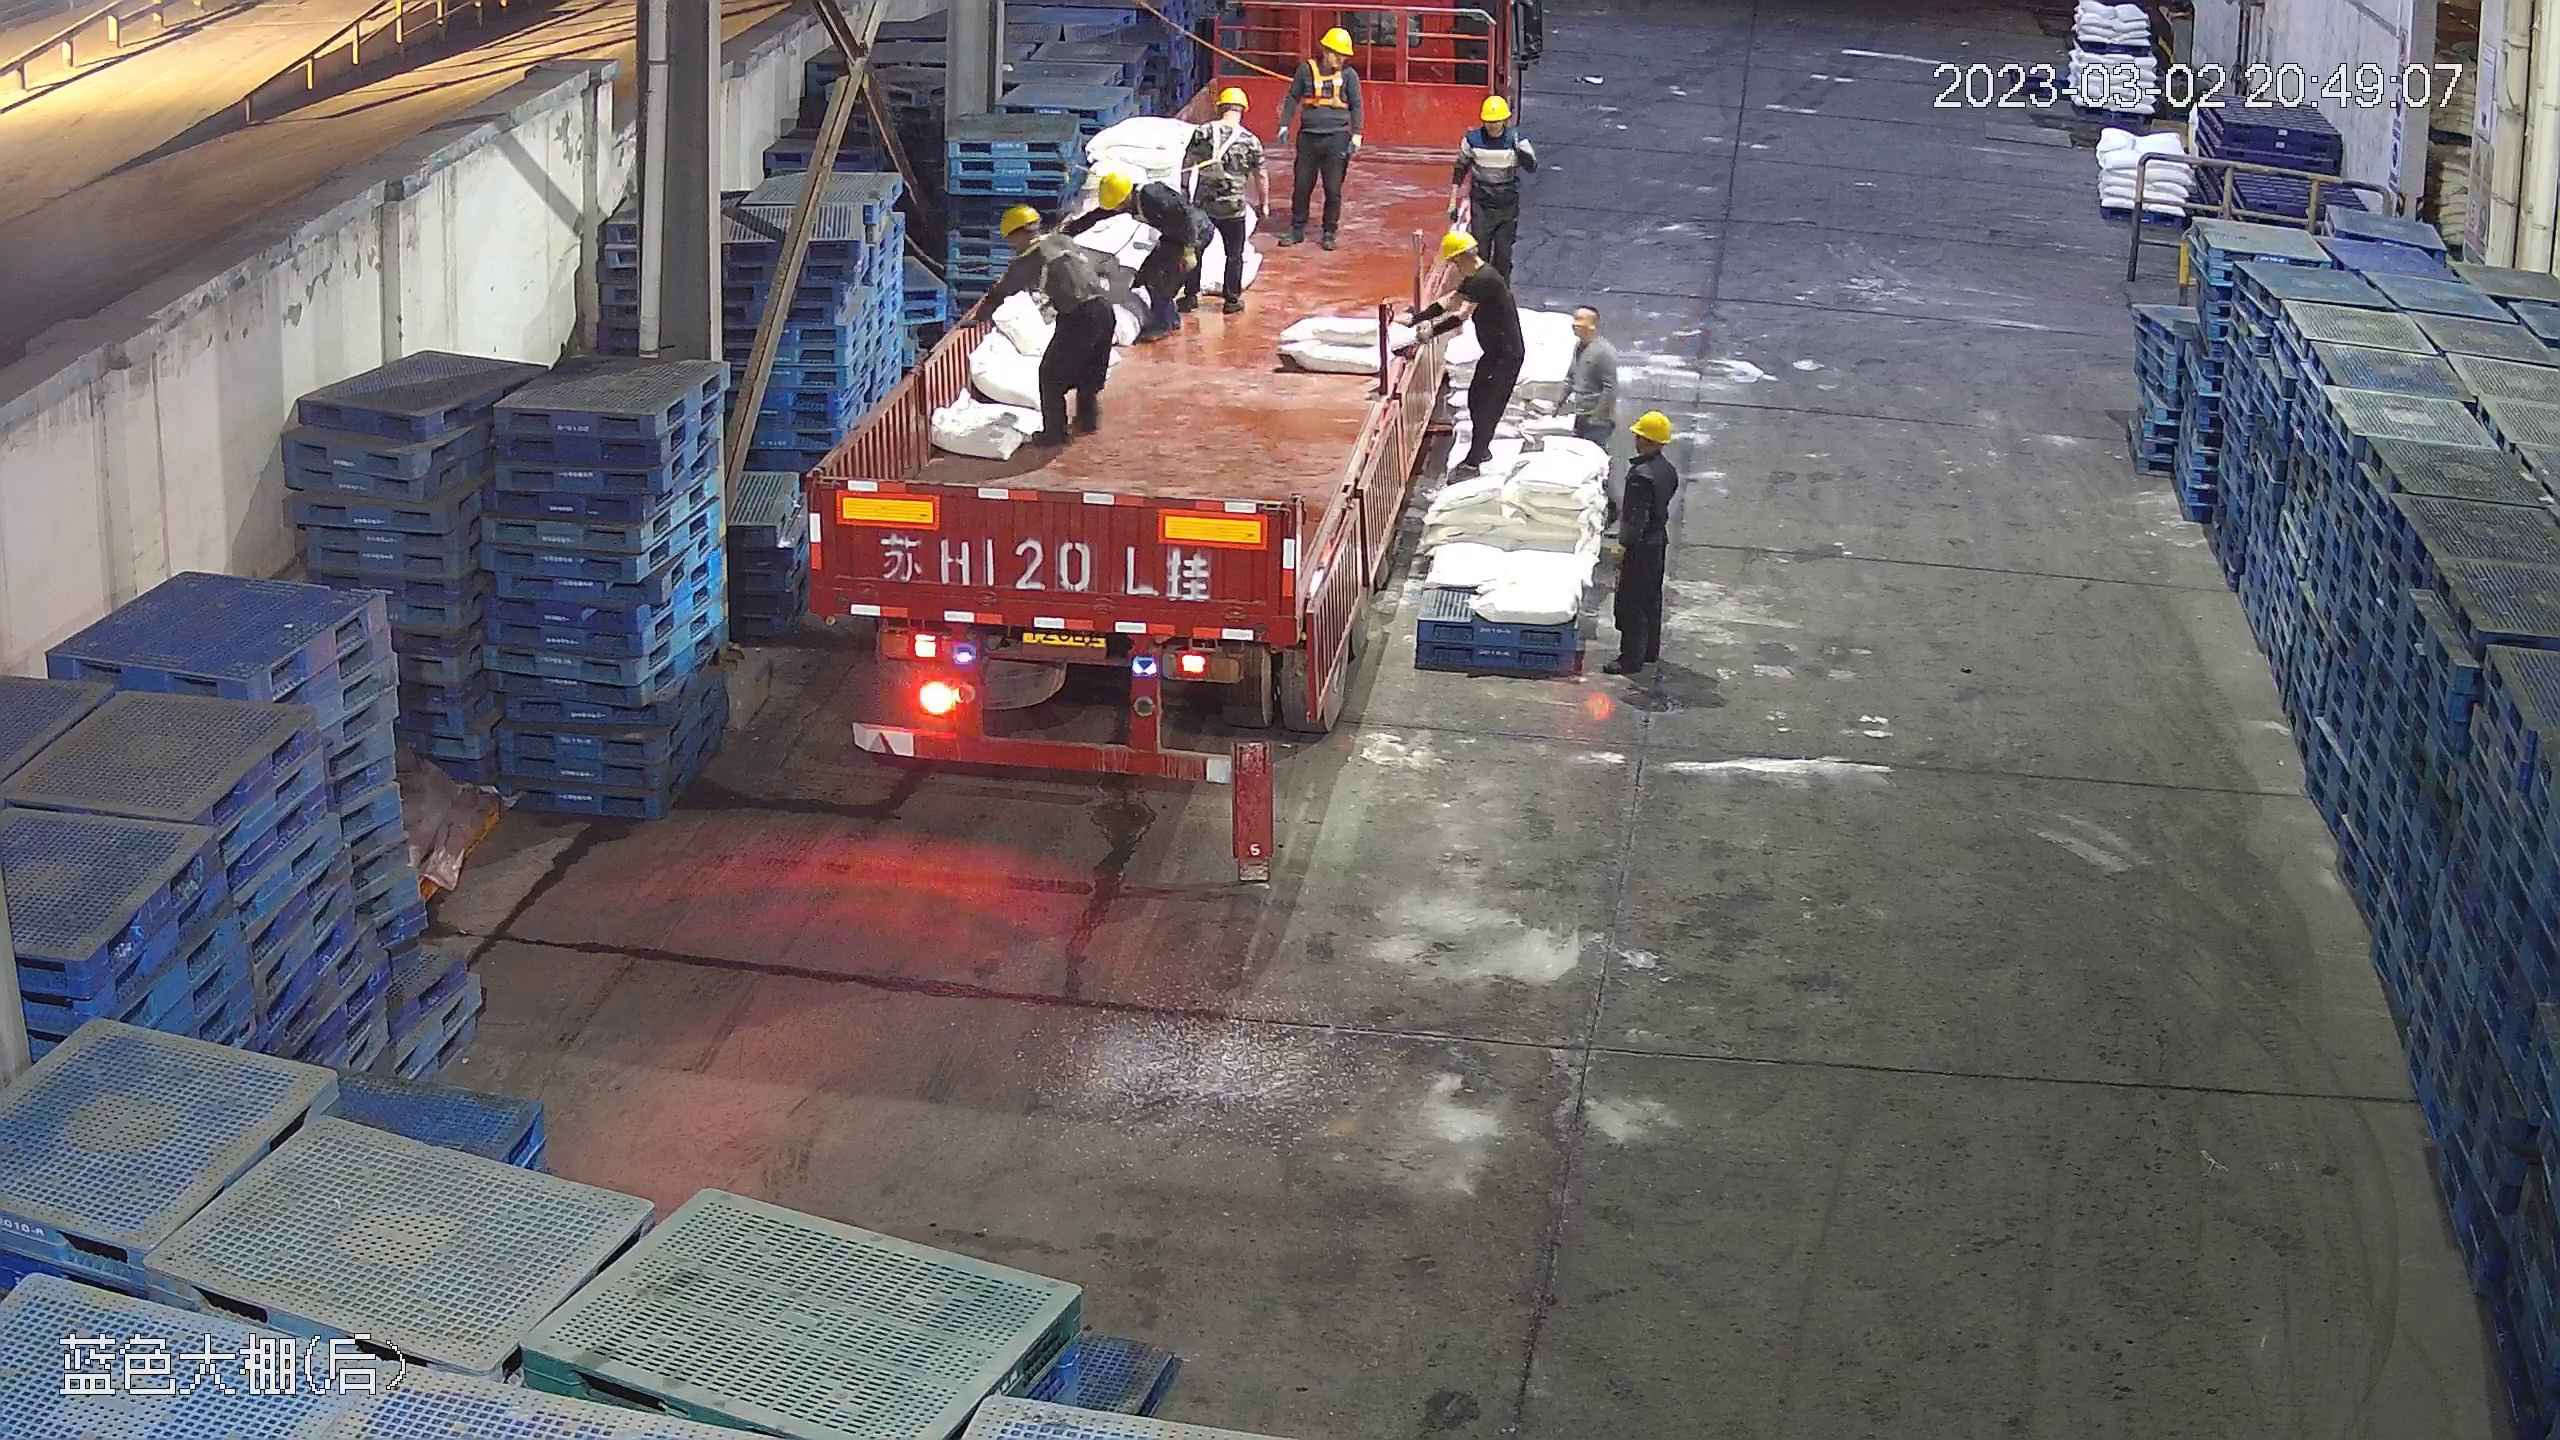belt: (1030, 233, 1106, 305), (1296, 59, 1352, 115), (1194, 131, 1248, 183), (1127, 179, 1152, 225)
head: (994, 201, 1085, 292), (1429, 230, 1512, 319), (1616, 409, 1682, 500), (1084, 168, 1172, 236), (1454, 94, 1534, 167), (1188, 85, 1260, 156), (1288, 24, 1362, 94), (1563, 306, 1619, 373)
helmet: (994, 202, 1043, 243), (1629, 408, 1674, 441), (1094, 168, 1131, 210), (1438, 229, 1479, 261), (1475, 93, 1512, 122), (1317, 24, 1354, 53), (1208, 84, 1244, 111)
people: (983, 200, 1122, 449), (1421, 228, 1523, 484), (1598, 406, 1686, 685), (1079, 162, 1206, 356), (1276, 22, 1363, 248), (1182, 82, 1265, 307), (1448, 91, 1540, 292), (1563, 305, 1621, 491)
truck: (797, 1, 1544, 776)
